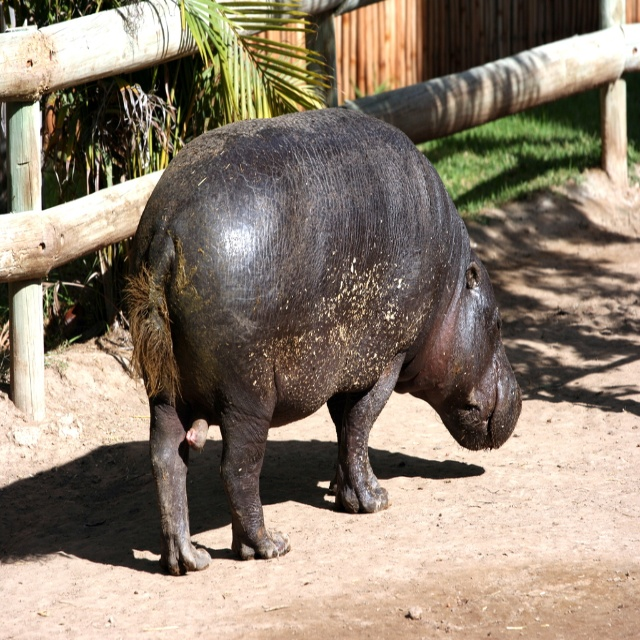Hippopotamus: (132, 104, 520, 577)
